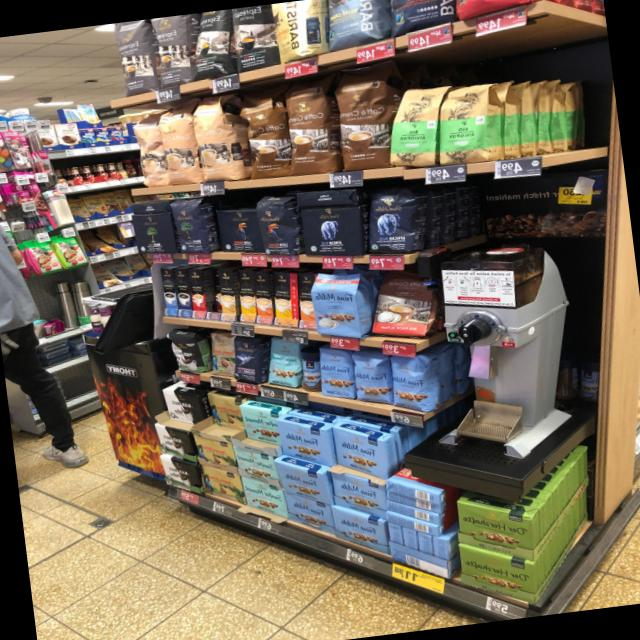AB Bohne: (367, 182, 417, 255)
AB Gemahlen: (299, 205, 364, 256)
Athiopien Gemahlen: (437, 81, 495, 166), (387, 84, 441, 166)
BM Bohne: (168, 197, 211, 254)
BM Gemahlen: (129, 211, 176, 254)
BW Bohne: (166, 328, 203, 375)
BW Gemahlen: (152, 422, 196, 463), (157, 455, 201, 493), (161, 389, 195, 425)
C Fino Bohne: (232, 335, 262, 384)
CC Mild: (189, 95, 240, 181), (153, 103, 203, 186), (128, 113, 168, 187)
CC Vollmundig: (369, 270, 435, 339)
Colombia BB Bohne: (209, 330, 235, 377)
Colombia BB Gemahlen: (191, 433, 239, 477), (200, 465, 246, 507)
FM 36 Pads: (308, 271, 364, 340)
FM Bohne: (387, 354, 434, 414), (349, 350, 391, 406), (315, 346, 353, 400)
FM Gemahlen: (332, 425, 388, 481), (273, 418, 334, 467), (330, 504, 388, 554), (272, 459, 333, 505), (330, 470, 385, 519), (282, 491, 332, 534)
Herzhatfe Mundig: (455, 499, 535, 564), (457, 544, 538, 605)
LG Bohne: (253, 197, 298, 255)
LG Gemahlen: (213, 208, 263, 253)
SM Bohne: (265, 338, 300, 389)
SM Gemahlen: (232, 444, 282, 490), (239, 476, 288, 519)
Simo CCMild: (273, 271, 298, 327)
Simo CCMild bigpack: (237, 270, 256, 321)
Simo CCVollmundig bigpack: (332, 63, 391, 173), (281, 74, 338, 175), (235, 89, 290, 180), (252, 271, 273, 324)
Simo Decaff: (217, 269, 237, 321)
Simo Es Brazil: (187, 269, 206, 318)
Simo Es Kraft: (173, 268, 191, 317)
Simo Es Vanilla: (160, 268, 177, 316)
